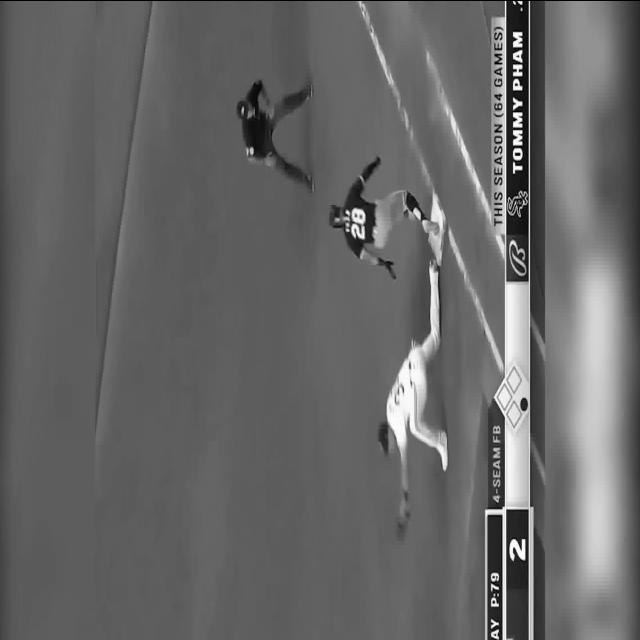baseball_glove: (361, 156, 381, 182), (377, 257, 396, 280)
shoe: (438, 430, 448, 471), (422, 219, 439, 235), (306, 174, 314, 193), (428, 258, 438, 272), (308, 85, 314, 99)
